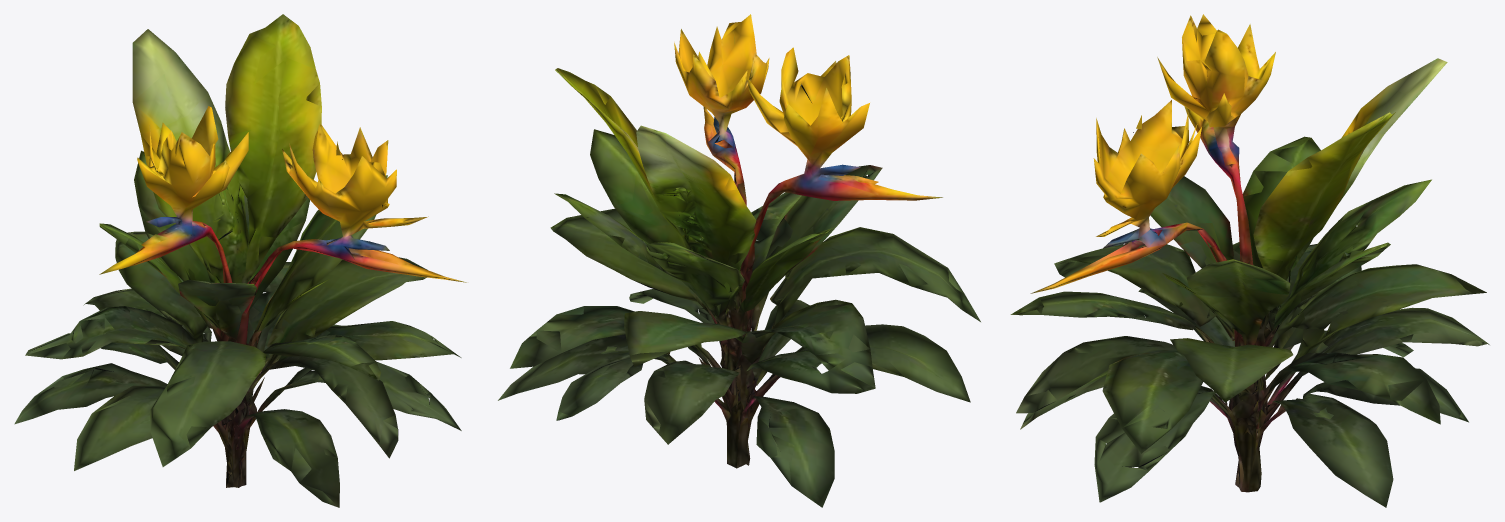
File: plant_heliconia.glb
3 renders of one model, left to right at view 1: azimuth 30°, elevation 25°; view 2: azimuth 150°, elevation 25°; view 3: azimuth 270°, elevation 25°, orthographic. The views are drawn at different scales.
Visible parts, largest first — view 1: lo; view 2: lo; view 3: lo.
Boxes of the visible parts, x1,y1,x2,y2 form: lo: [14, 14, 466, 507]; lo: [498, 14, 980, 507]; lo: [1010, 14, 1489, 507].
Bounding box in the file's own units: 1.94 × 1.93 × 1.92.
Materials: 1 (1 with a texture image).
